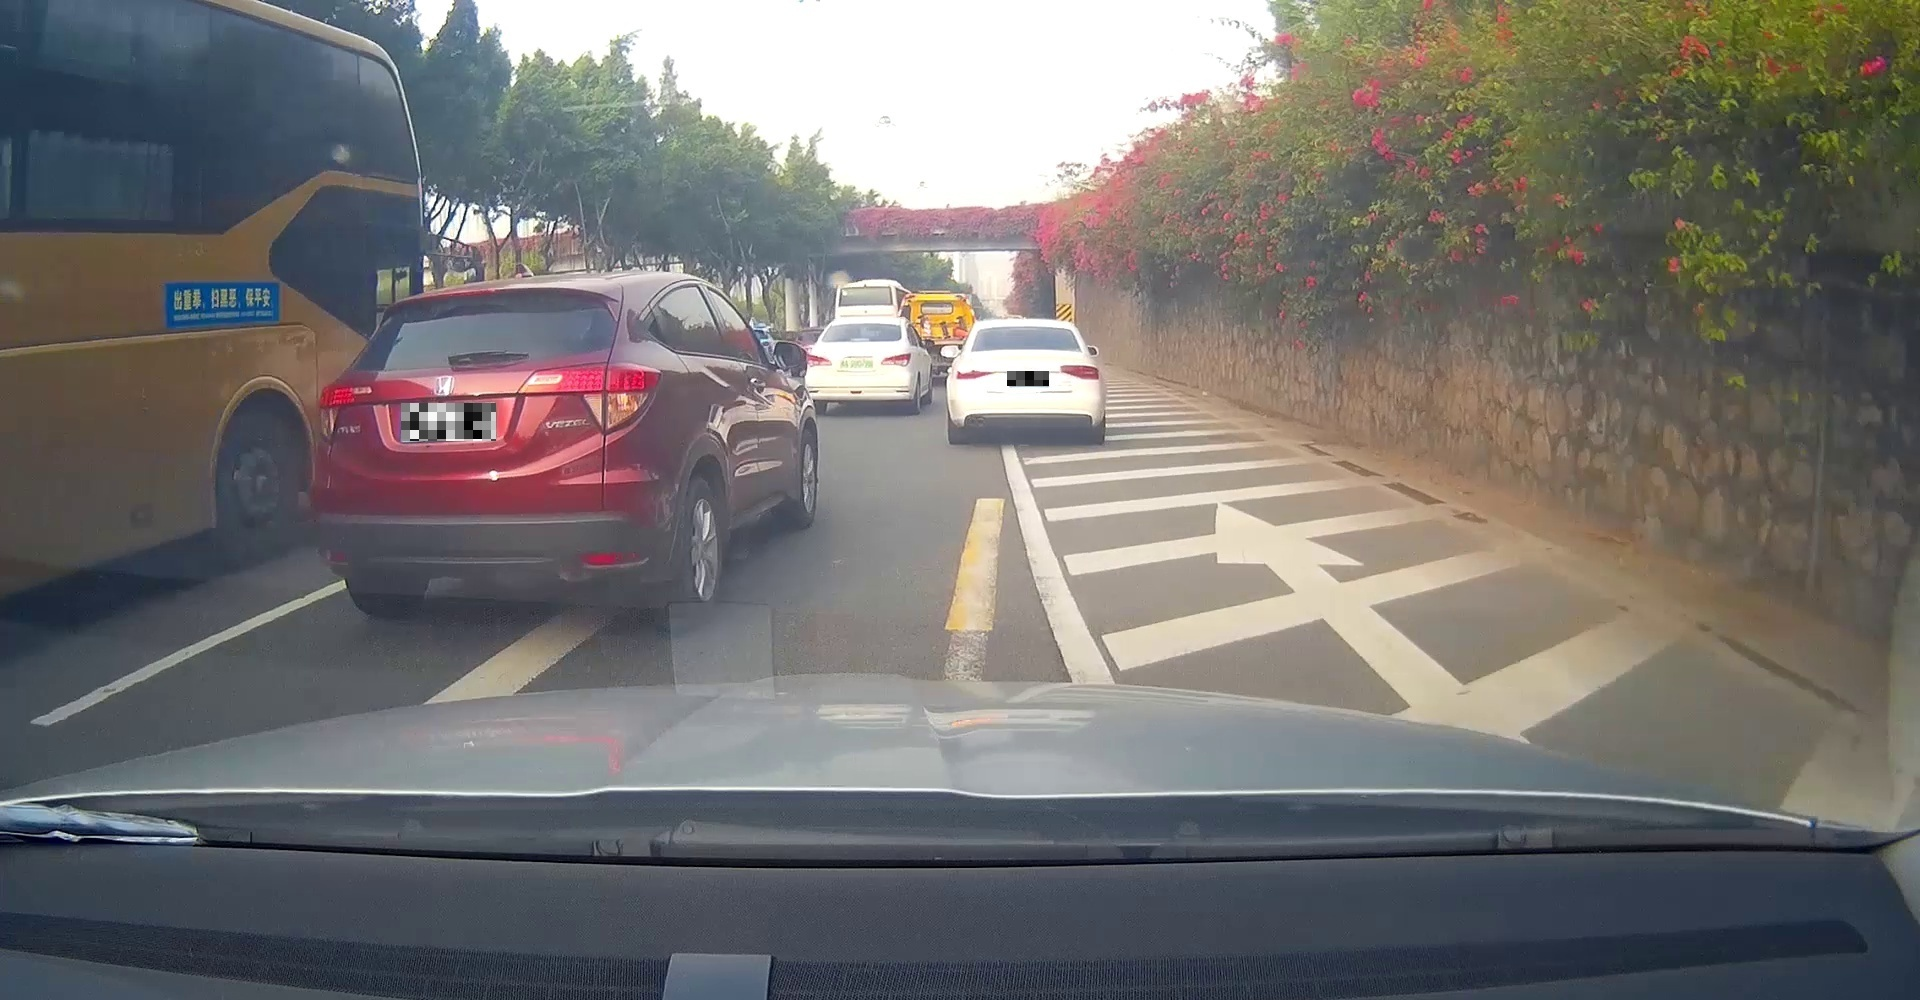L_light: (317, 385, 373, 445), (956, 364, 990, 379), (806, 354, 832, 367)
R_light: (518, 362, 659, 430), (1060, 365, 1098, 379), (881, 353, 910, 365)
T_light: (458, 297, 500, 303), (1015, 327, 1037, 331), (855, 324, 871, 327)
day-left: (947, 320, 1105, 444)
day-no: (311, 283, 663, 617), (804, 319, 912, 412)
plate_1: (401, 404, 497, 442)
plate_2: (1007, 371, 1049, 386)
